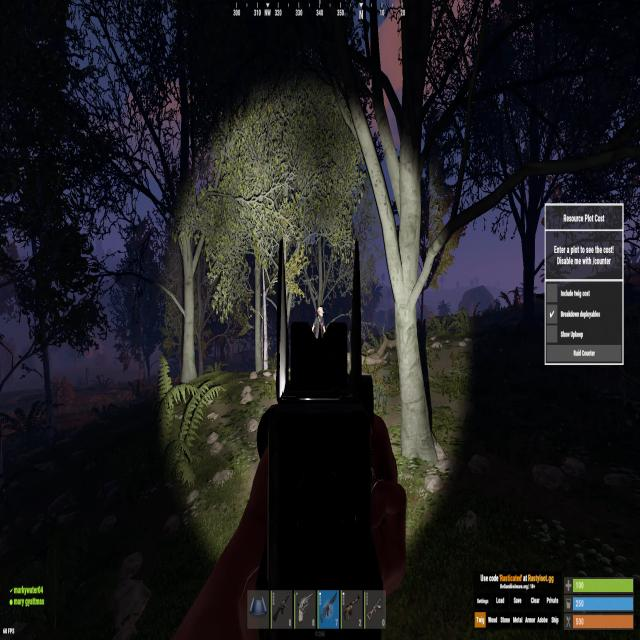Player: (313, 308, 327, 340)
